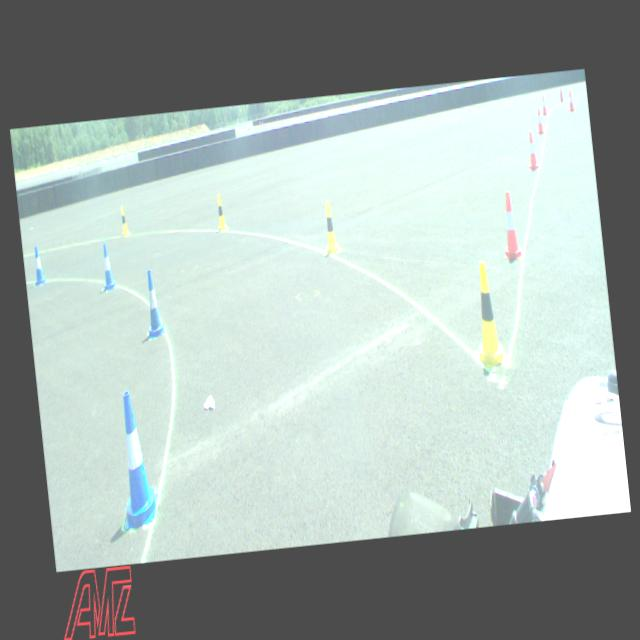blue_cone: (114, 392, 156, 520), (142, 272, 165, 336), (99, 242, 116, 290), (31, 247, 45, 284)
orange_cone: (496, 190, 524, 262), (524, 131, 538, 171), (534, 107, 544, 136), (566, 89, 574, 113), (539, 93, 547, 115)
yellow_cone: (467, 261, 505, 365), (321, 201, 339, 254), (214, 194, 227, 232), (118, 206, 128, 237)
